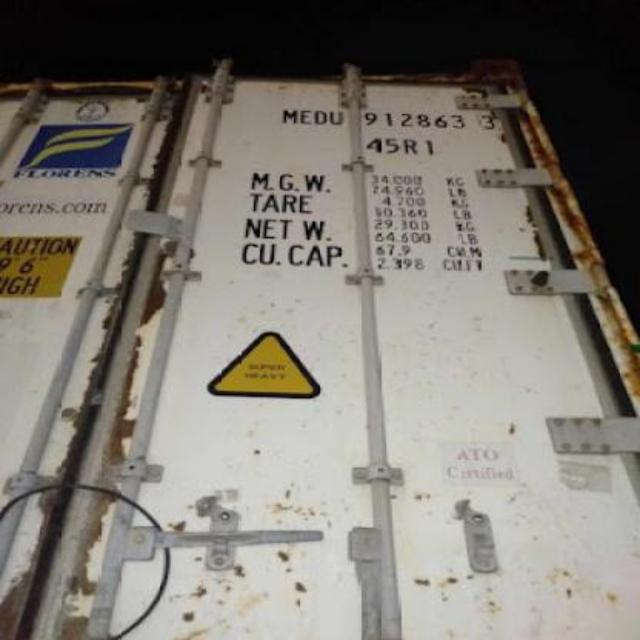1: (378, 106, 398, 132)
2: (394, 106, 416, 132)
3: (478, 106, 499, 134), (448, 106, 466, 136)
6: (430, 106, 448, 136)
8: (414, 108, 430, 132)
9: (360, 108, 378, 130)
D: (312, 101, 328, 133)
E: (298, 102, 312, 130)
M: (280, 102, 298, 126)
U: (330, 102, 348, 134)
